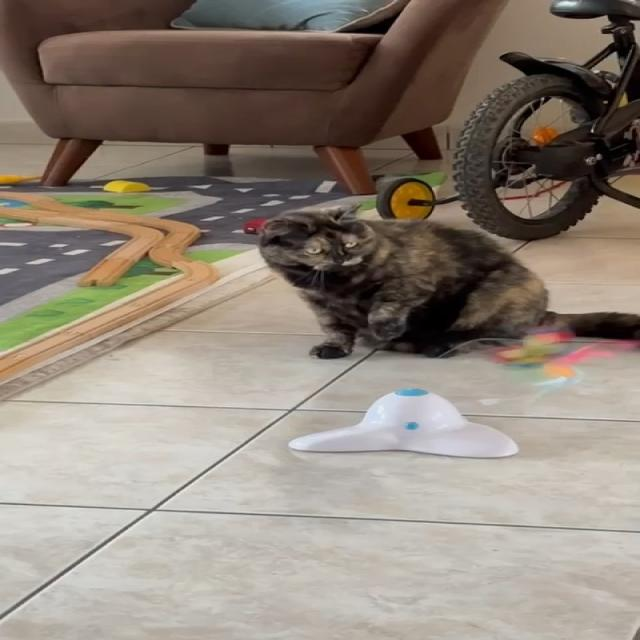authorized: (254, 202, 638, 360)
